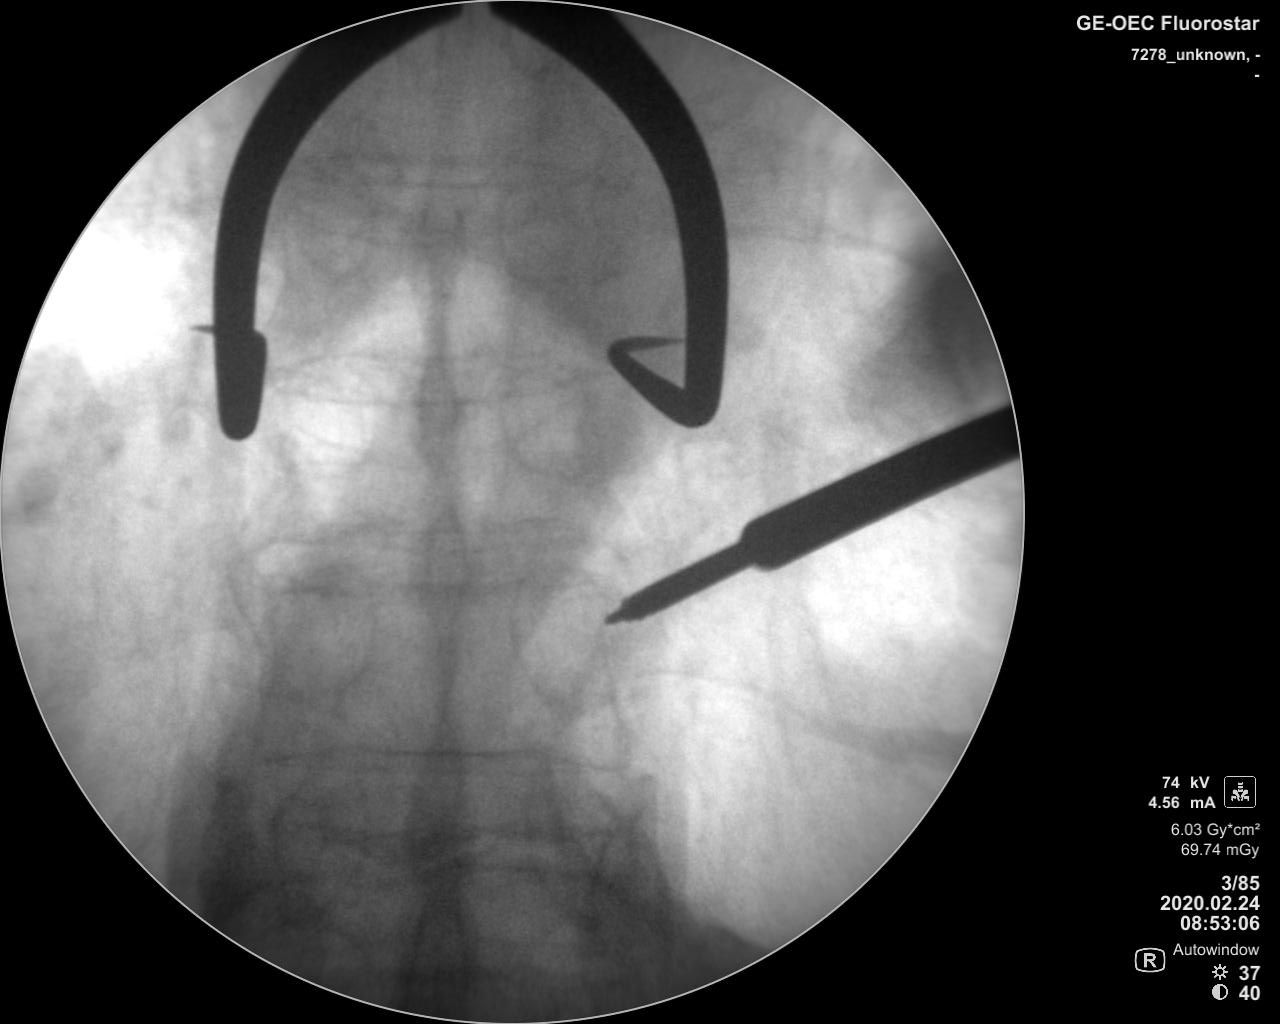eyes: (261, 562, 370, 699), (511, 566, 607, 719), (496, 169, 600, 288), (498, 366, 594, 484), (272, 356, 372, 463), (293, 167, 385, 280)
line: (263, 347, 607, 408), (239, 514, 611, 567), (247, 736, 625, 782)
nose: (400, 692, 473, 874), (408, 497, 478, 670), (398, 324, 467, 488), (404, 159, 466, 319)
